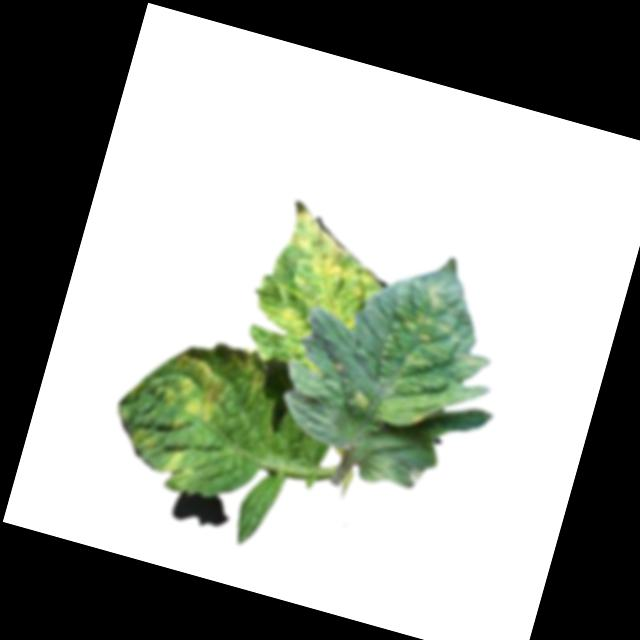Leaf_Mold: (357, 269, 510, 445), (257, 199, 385, 350), (149, 349, 229, 428), (161, 440, 189, 477)
